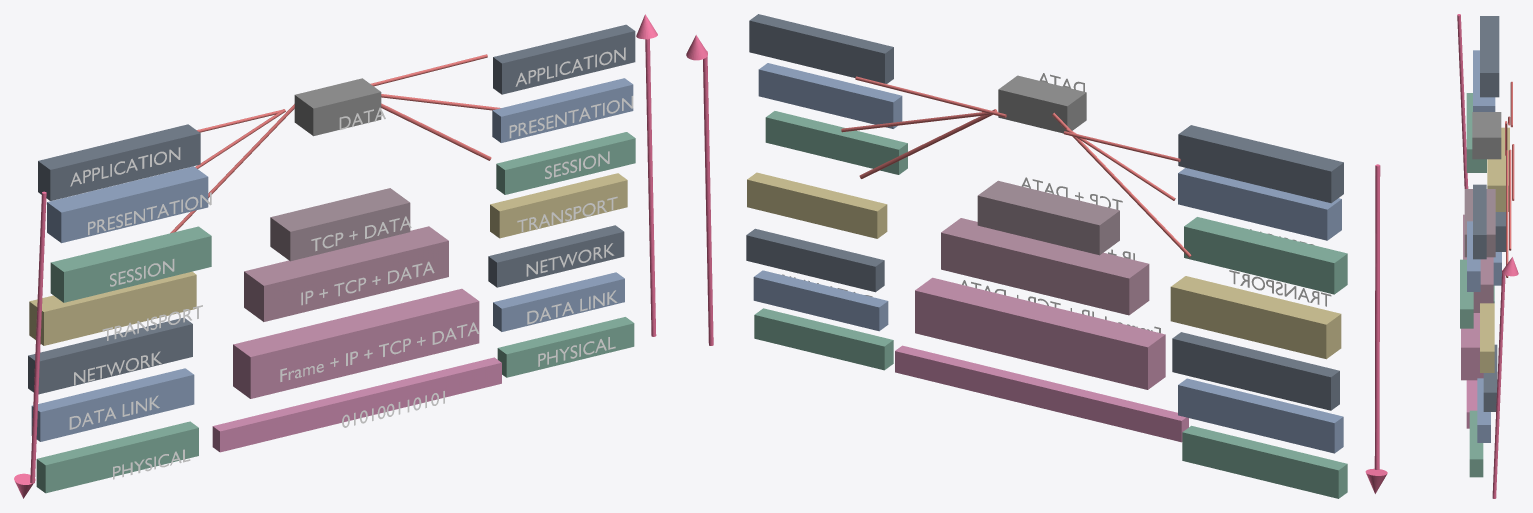
The model's file is osi model.glb.
3 renders of one model, left to right at view 1: azimuth 30°, elevation 25°; view 2: azimuth 150°, elevation 25°; view 3: azimuth 270°, elevation 25°, orthographic. The views are drawn at different scales.
Visible parts, largest first — view 1: Cube.017, Cube.016, Cube.018, Cube.005, Cube.004, Cube.022, Cube.006, Cube.007, Cube.015, Cube.008, Cube.009, Cube.002 (+12 smaller); view 2: Cube.017, Cube.016, Cube.018, Cube.006, Cube.022, Cube.005, Cube.007, Cube.015, Cube.008, Cube.004, Cube.009, Cube.002 (+9 smaller); view 3: Cube.022, Cube.014, Cube.017, Cube.015, Cube.006, Cube.002, Cube.010, Cylinder.001, Cube.016, Cube.013, Cube.005, Cube.001 (+13 smaller).
Part boxes in pixels (left/top/right/bottom): Cube.017: left=233, top=288, right=479, bottom=398; Cube.016: left=244, top=226, right=448, bottom=321; Cube.018: left=212, top=357, right=501, bottom=452; Cube.005: left=50, top=226, right=211, bottom=302; Cube.004: left=47, top=166, right=208, bottom=243; Cube.022: left=38, top=124, right=200, bottom=200; Cube.006: left=29, top=271, right=196, bottom=345; Cube.007: left=28, top=318, right=192, bottom=394; Cube.015: left=270, top=188, right=410, bottom=261; Cube.008: left=31, top=368, right=194, bottom=441; Cube.009: left=36, top=421, right=198, bottom=493; Cube.002: left=493, top=24, right=635, bottom=94; Cube.017: left=915, top=277, right=1165, bottom=389; Cube.016: left=941, top=218, right=1149, bottom=315; Cube.018: left=895, top=345, right=1188, bottom=442; Cube.006: left=1170, top=276, right=1341, bottom=359; Cube.022: left=1178, top=125, right=1343, bottom=203; Cube.005: left=1184, top=217, right=1347, bottom=294; Cube.007: left=1172, top=332, right=1339, bottom=410; Cube.015: left=977, top=180, right=1119, bottom=255; Cube.008: left=1178, top=378, right=1343, bottom=453; Cube.004: left=1178, top=168, right=1341, bottom=240; Cube.009: left=1182, top=425, right=1347, bottom=498; Cube.002: left=749, top=14, right=893, bottom=83; Cube.022: left=1480, top=16, right=1499, bottom=97; Cube.014: left=1472, top=112, right=1501, bottom=159; Cube.017: left=1461, top=313, right=1483, bottom=380; Cube.015: left=1464, top=189, right=1495, bottom=257; Cube.006: left=1487, top=127, right=1509, bottom=211; Cube.002: left=1473, top=184, right=1486, bottom=259; Cube.010: left=1480, top=303, right=1494, bottom=372; Cylinder.001: left=1492, top=270, right=1505, bottom=498; Cube.016: left=1463, top=214, right=1493, bottom=312; Cube.013: left=1469, top=410, right=1483, bottom=477; Cube.005: left=1466, top=93, right=1486, bottom=172; Cube.001: left=1460, top=259, right=1473, bottom=328.
Size of the model in its own units: 26.06 by 12.19 by 4.48.
